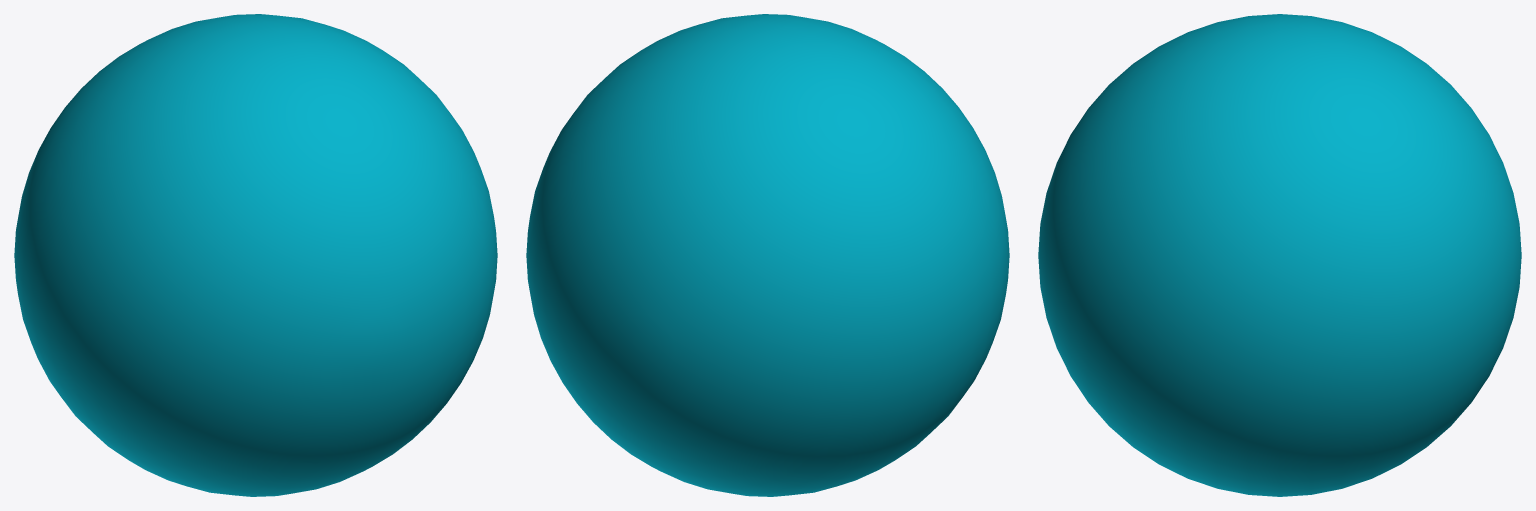
The model's file is glass_ball_ii.glb.
The picture shows the model from 3 angles, left to right: view 1: azimuth 30°, elevation 25°; view 2: azimuth 150°, elevation 25°; view 3: azimuth 270°, elevation 25°; orthographic projection.
Visible parts, largest first — view 1: Object_2; view 2: Object_2; view 3: Object_2.
Part boxes in pixels (box(x1,y1,x2,y2)): Object_2: box(14, 14, 497, 496); Object_2: box(526, 14, 1009, 496); Object_2: box(1038, 14, 1521, 496).
Bounding box in the file's own units: 123 × 123 × 123.
